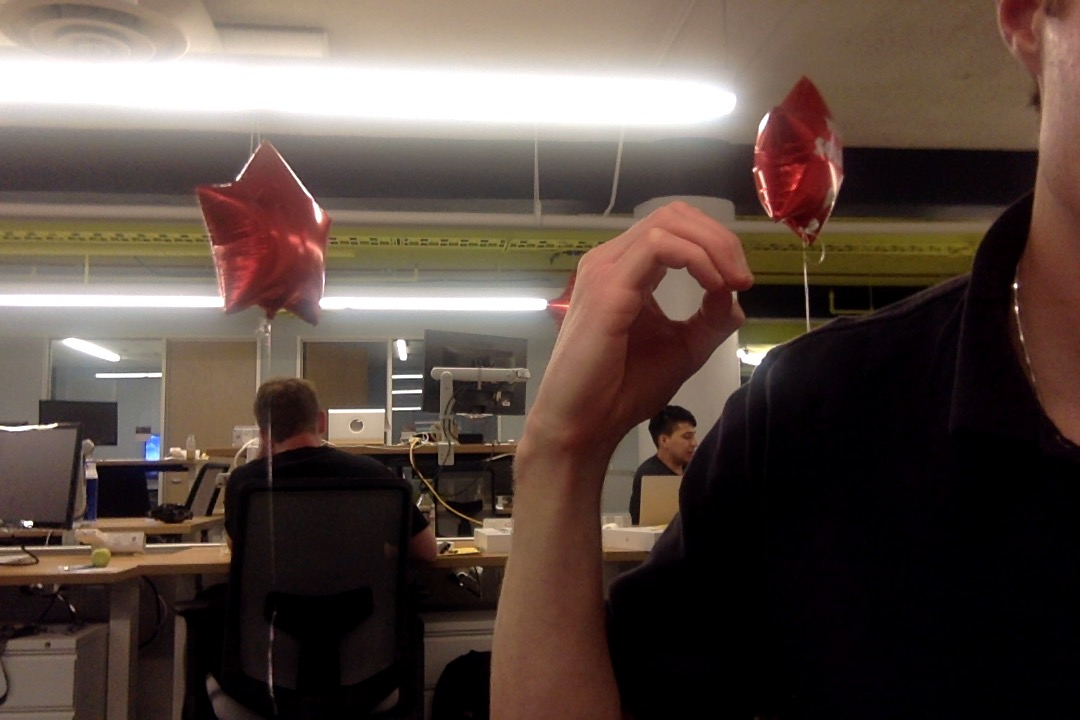o: (521, 195, 762, 446)
